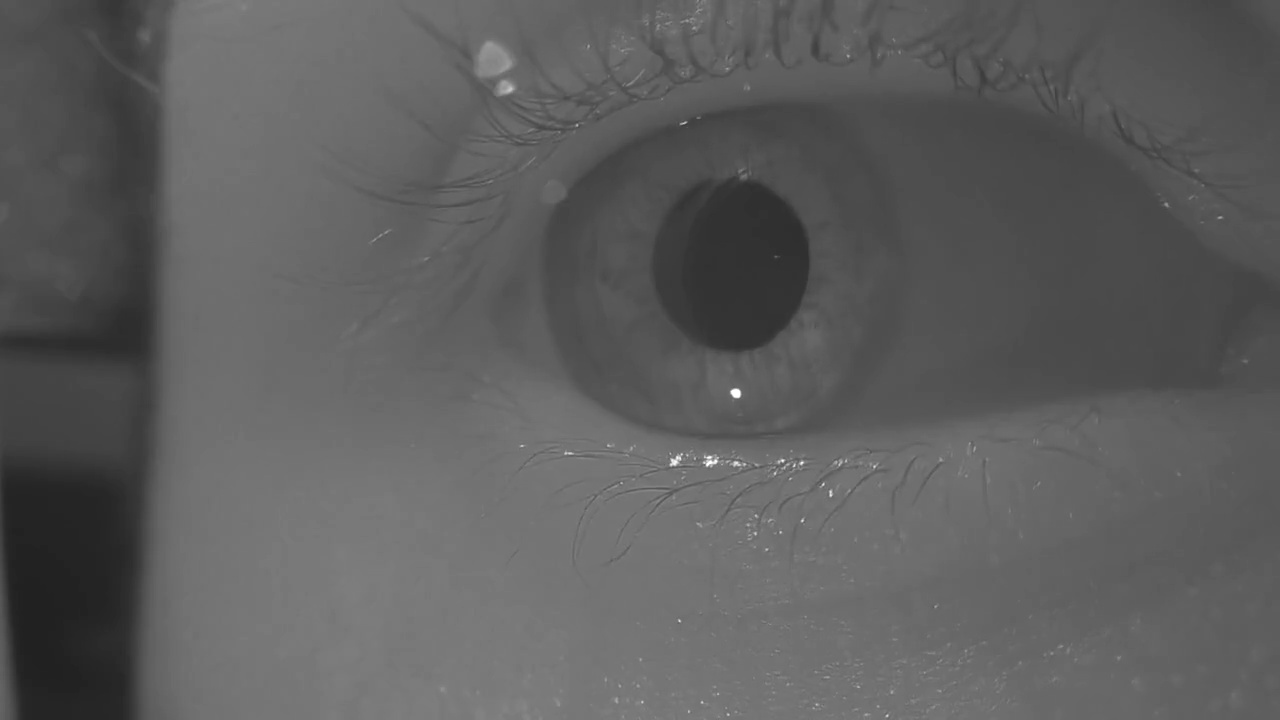pupil: (655, 178, 810, 352)
